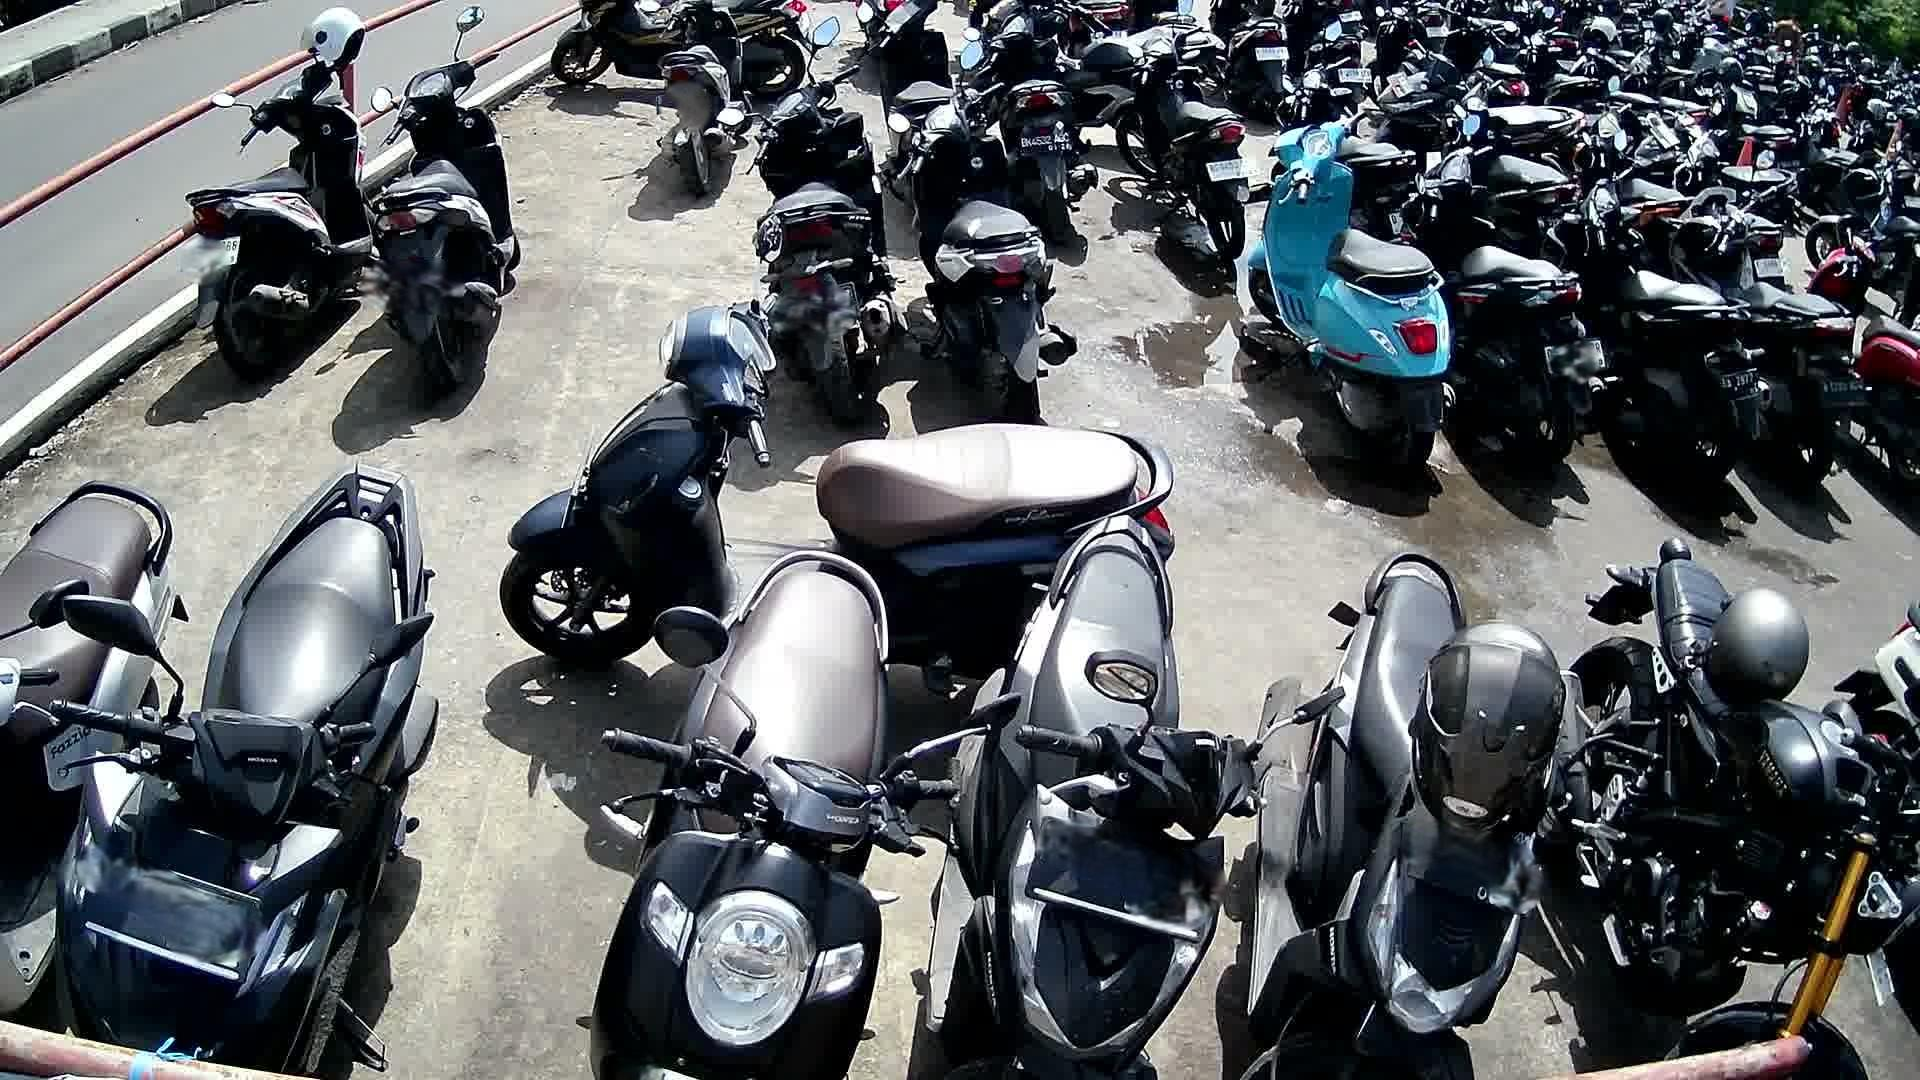motorcycle: (500, 216, 1180, 669), (920, 512, 1344, 1079), (58, 462, 438, 1065), (589, 549, 1011, 1079), (1253, 549, 1634, 1080), (1552, 534, 1920, 1080), (1, 481, 187, 1002), (1542, 133, 1768, 488), (1246, 112, 1458, 483), (713, 17, 906, 422), (1399, 116, 1611, 479), (882, 44, 1079, 415), (1660, 187, 1867, 500), (183, 57, 380, 378), (372, 5, 524, 396), (1811, 224, 1920, 496)
